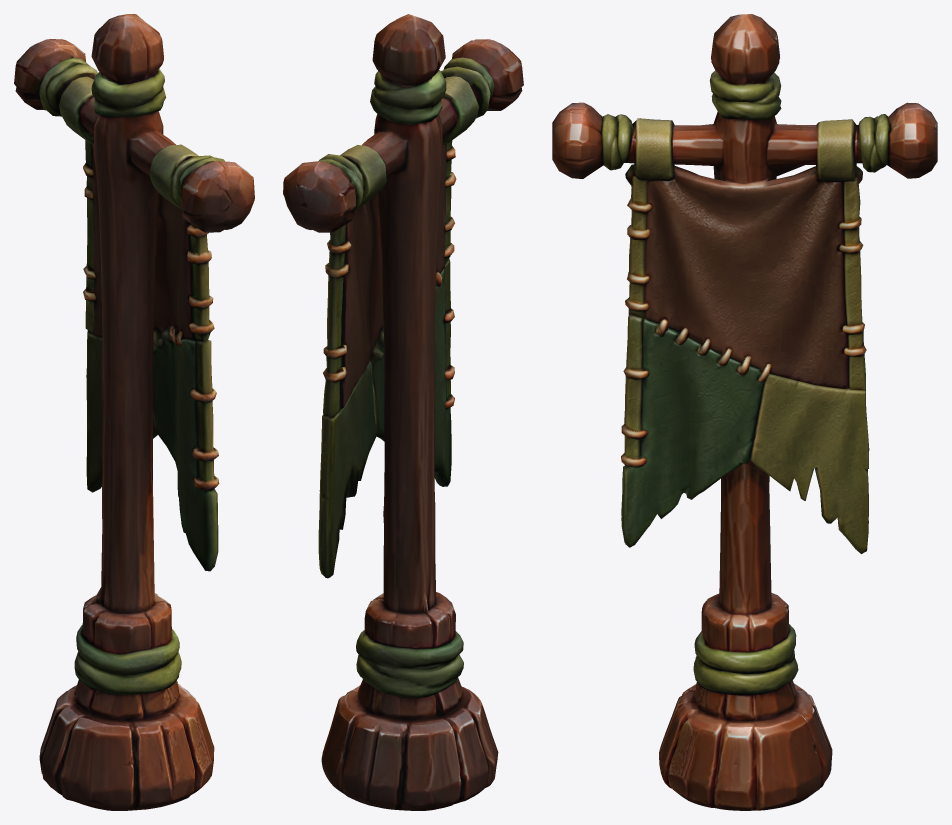
Rendered from Kit_W_Banner_v1plus_HD_src.glb.
3 views of the same model, side by side, from view 1: azimuth 30°, elevation 25°; view 2: azimuth 150°, elevation 25°; view 3: azimuth 270°, elevation 25° (orthographic).
Visible parts, largest first — view 1: tripo_node_9fa414cf-de02-47c2-b465-436b1a11a6ae; view 2: tripo_node_9fa414cf-de02-47c2-b465-436b1a11a6ae; view 3: tripo_node_9fa414cf-de02-47c2-b465-436b1a11a6ae.
Boxes of the visible parts, bbox=[...] form: tripo_node_9fa414cf-de02-47c2-b465-436b1a11a6ae: bbox=[14, 14, 254, 810]; tripo_node_9fa414cf-de02-47c2-b465-436b1a11a6ae: bbox=[283, 14, 523, 810]; tripo_node_9fa414cf-de02-47c2-b465-436b1a11a6ae: bbox=[552, 14, 937, 810].
Bounding box in the file's own units: 0.2039 × 0.979 × 0.4463.
Materials: 1 (1 with a texture image).
